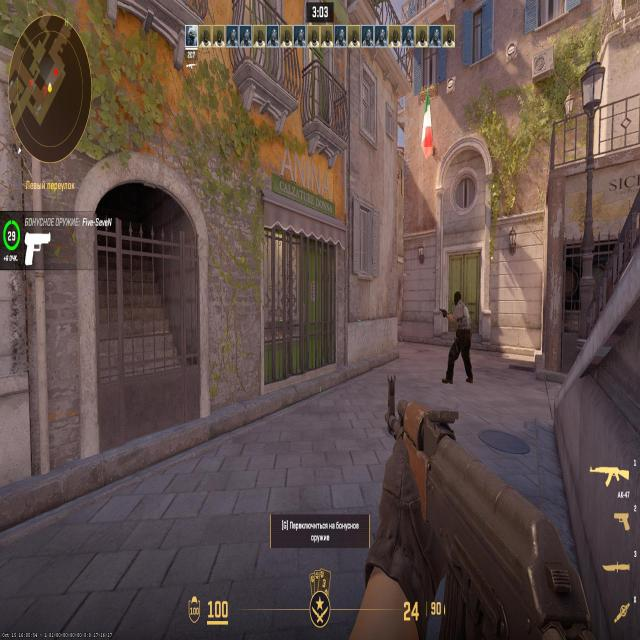T: (452, 291, 471, 368)
T_heat: (454, 288, 459, 306)
